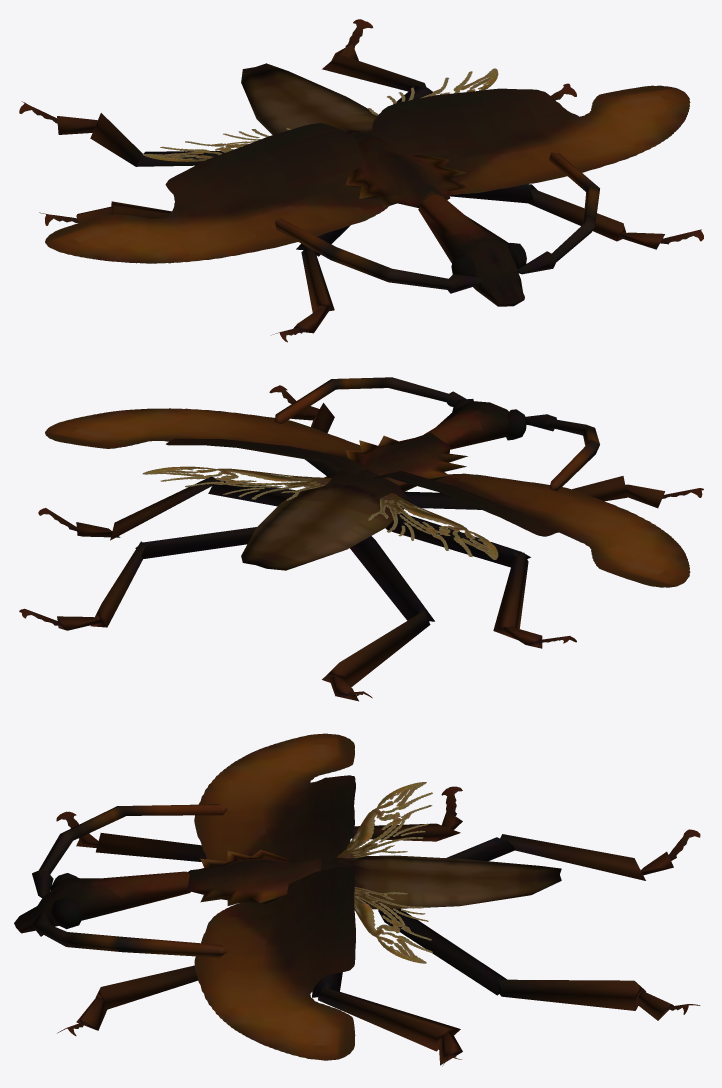
The model's file is violin-beetle.glb.
3 views of the same model, one above another, from view 1: azimuth 30°, elevation 25°; view 2: azimuth 150°, elevation 25°; view 3: azimuth 270°, elevation 25° (orthographic). The views are drawn at different scales.
Bounding box in the file's own units: 5.19 × 0.721 × 4.57.
Materials: 2 (2 with a texture image).
